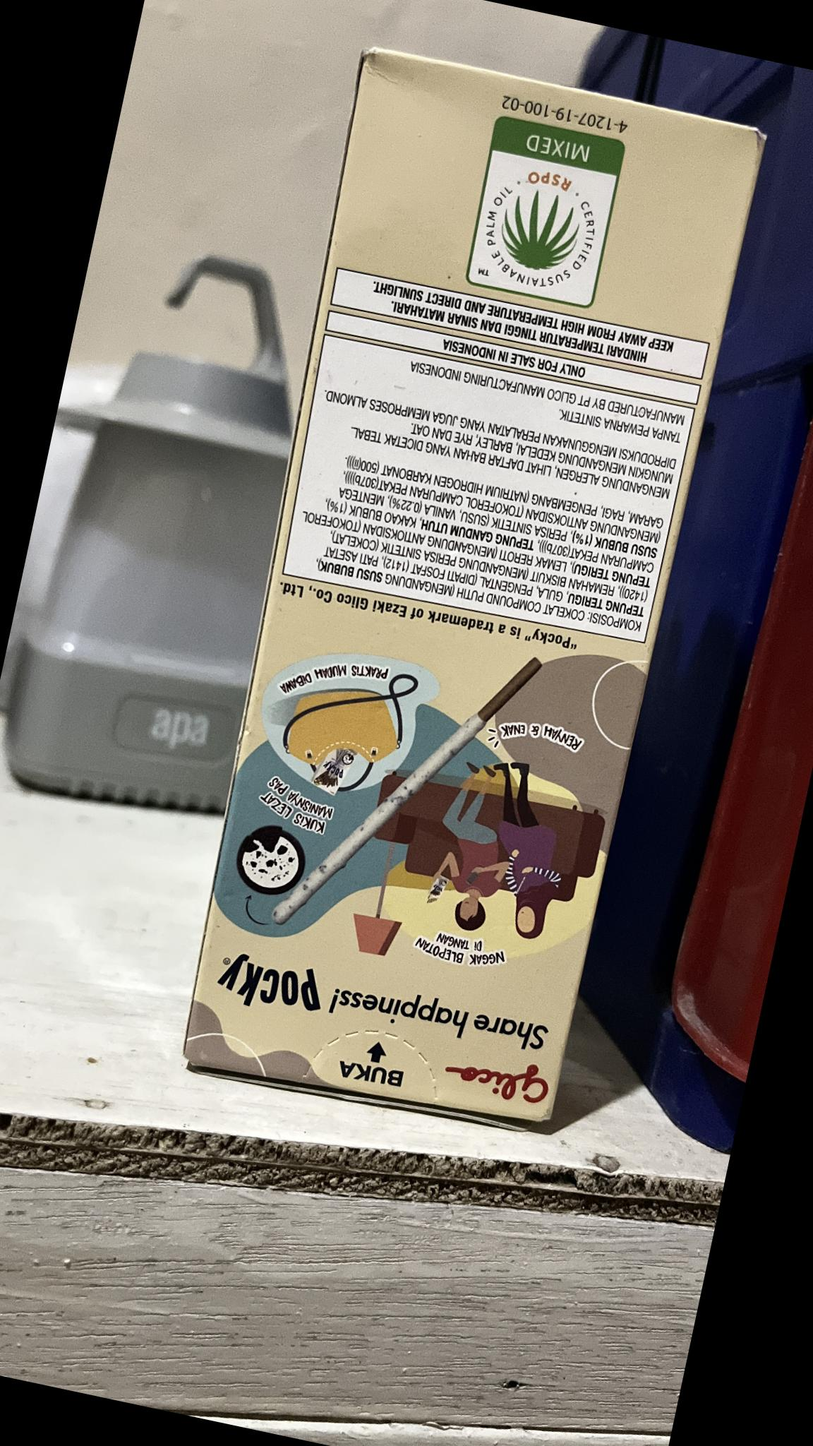Kertas: (175, 42, 758, 1137)
